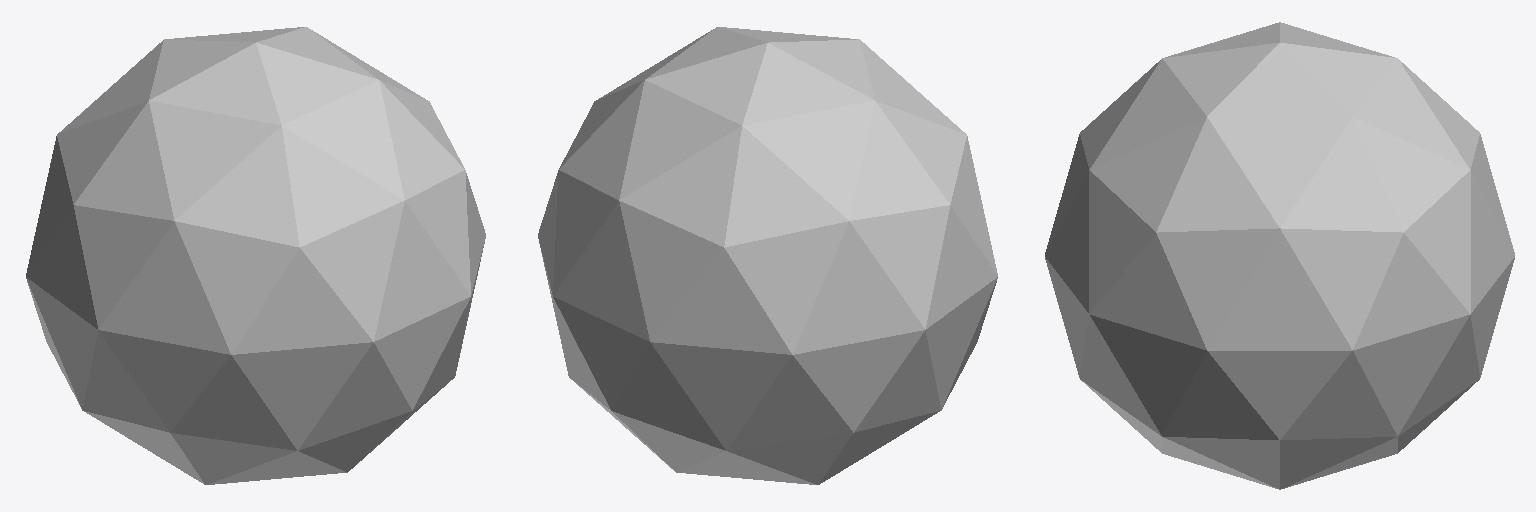
The model's file is foot_ball.obj.
3 views of the same model, side by side, from view 1: azimuth 30°, elevation 25°; view 2: azimuth 150°, elevation 25°; view 3: azimuth 270°, elevation 25° (orthographic).
Parts seen in each view (by area): view 1: lp_football_Icosphere.002; view 2: lp_football_Icosphere.002; view 3: lp_football_Icosphere.002.
Boxes of the visible parts, x1=… form: lp_football_Icosphere.002: x1=26, y1=27, x2=485, y2=484; lp_football_Icosphere.002: x1=538, y1=27, x2=997, y2=484; lp_football_Icosphere.002: x1=1045, y1=22, x2=1514, y2=489.
Size of the model in its own units: 0.1902 by 0.2 by 0.2.